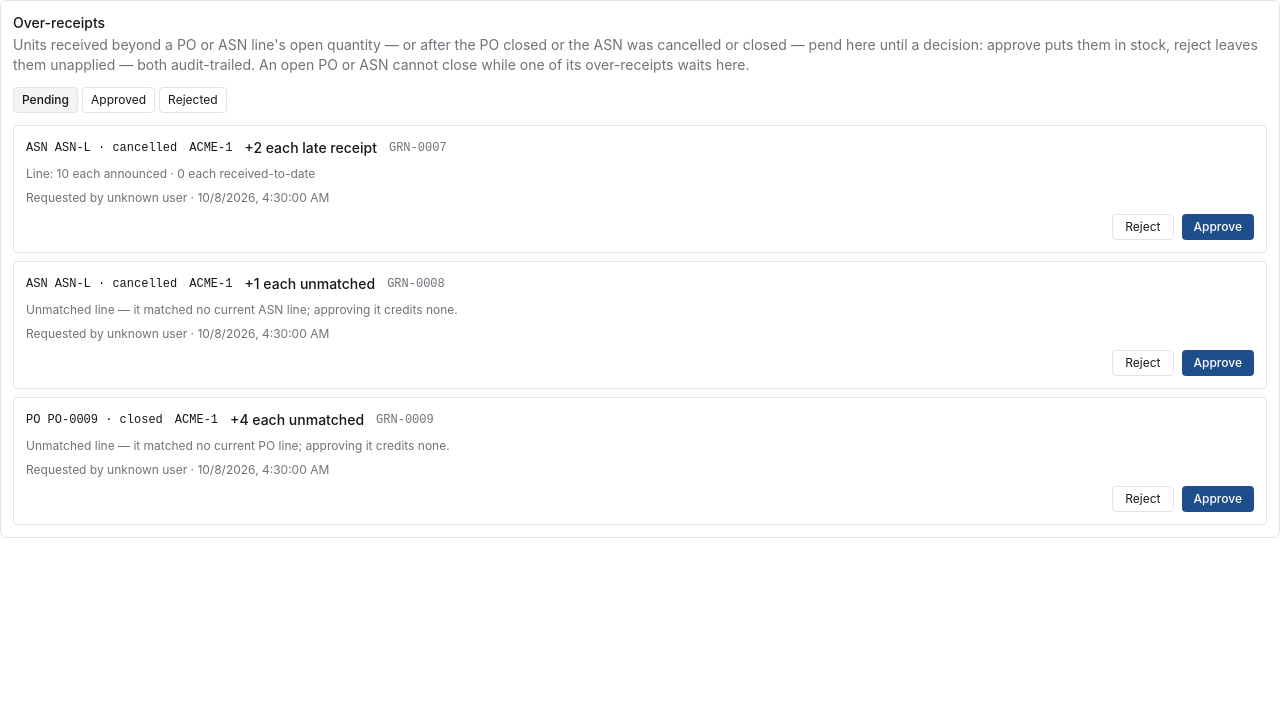
OverReceiptQueue — late receipts (story 21-9) › approving a null-line row says it went to stock and credited no line
Click the 3rd button "Approve" at (1218, 499), box x1=1182 y1=486 x2=1254 y2=512
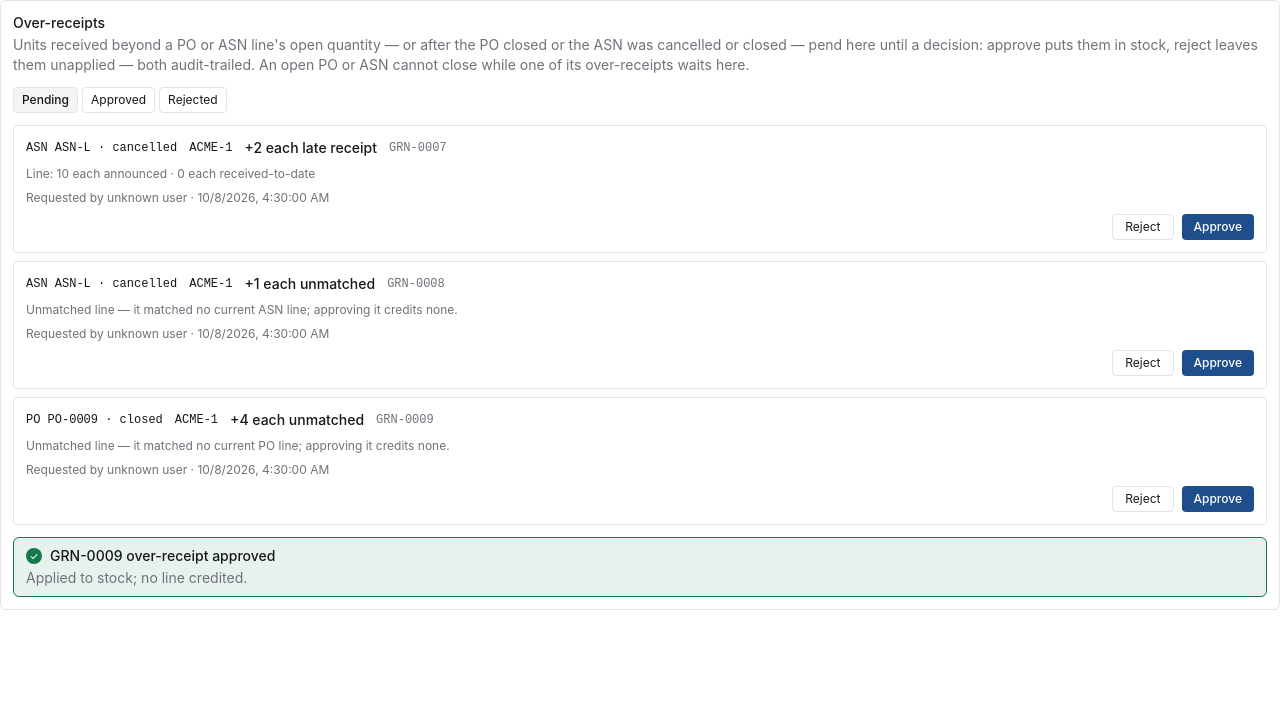
Expected: the text "Applied to stock; no line credited." is shown, x1=26 y1=569 x2=247 y2=586
